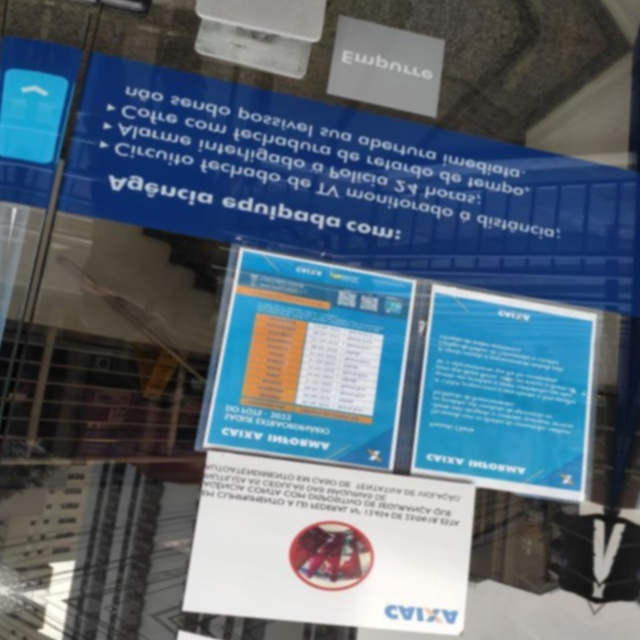qr-code: (337, 291, 357, 308), (359, 296, 379, 311)
